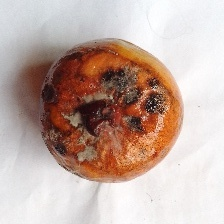guava: (0, 56, 185, 197)
